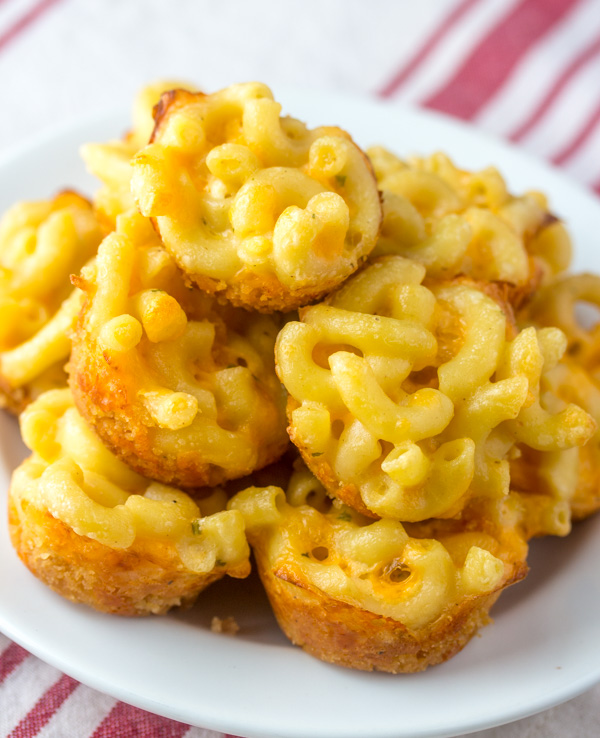macncheese: (75, 131, 513, 494)
